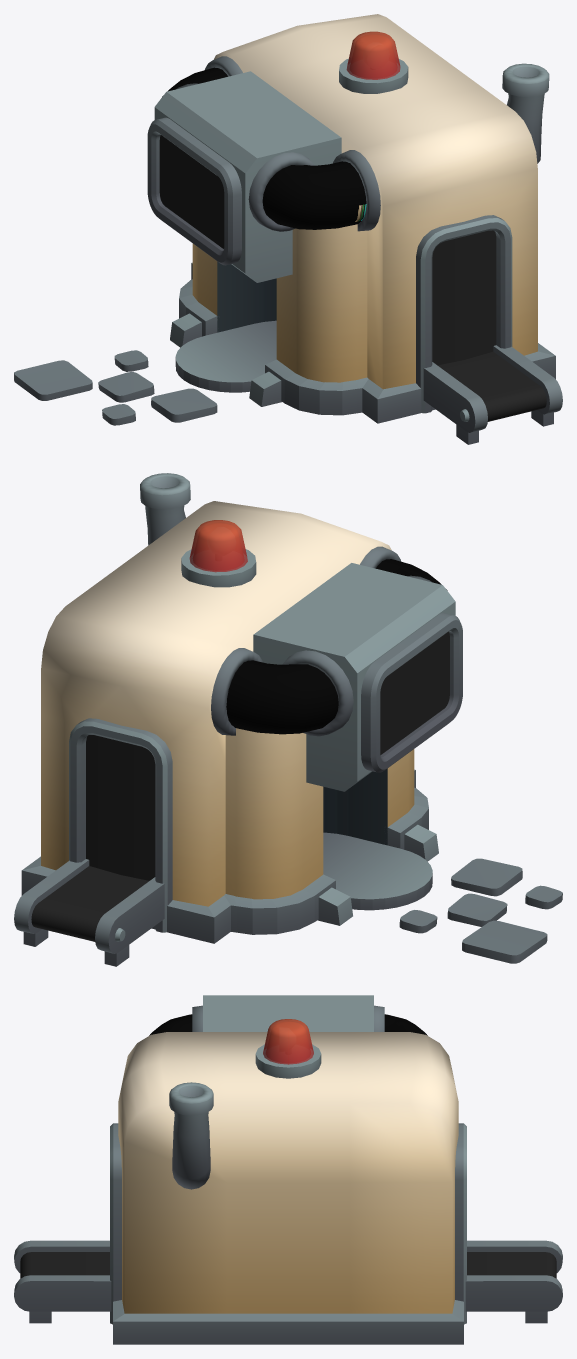
The model's file is crosshatcher.fbx.
3 renders of one model, top to bottom at view 1: azimuth 30°, elevation 25°; view 2: azimuth 150°, elevation 25°; view 3: azimuth 270°, elevation 25°, orthographic. The views are drawn at different scales.
Visible parts, largest first — view 1: Cube, Cube.001, Cube.007, m_crosshatcher.001, m_crosshatcher.002, Cube.002, BézierCircle, Cylinder.005, BézierCircle.001, m_crosshatcher.003, m_incubator.002, m_incubator.001; view 2: Cube, Cube.001, Cube.007, m_crosshatcher.001, m_crosshatcher.002, Cube.002, BézierCircle, Cylinder.005, BézierCircle.001, m_crosshatcher.003, m_incubator.002, m_incubator.001; view 3: Cube, m_crosshatcher.001, Cube.002, Cube.007, m_incubator.002, m_crosshatcher.003, BézierCircle, BézierCircle.001.
Boxes of the visible parts, x1,y1,x2,y2 form: Cube: (14,14,537,425); Cube.001: (192,224,367,382); Cube.007: (154,71,341,282); m_crosshatcher.001: (416,215,562,444); m_crosshatcher.002: (147,117,241,265); Cube.002: (179,262,555,423); BézierCircle: (162,67,366,229); Cylinder.005: (175,320,276,392); BézierCircle.001: (176,56,380,231); m_crosshatcher.003: (339,31,408,93); m_incubator.002: (502,63,549,163); m_incubator.001: (170,313,281,406); Cube: (41,501,562,963); Cube.001: (225,728,414,899); Cube.007: (253,563,455,791); m_crosshatcher.001: (14,718,172,966); m_crosshatcher.002: (361,613,462,772); Cube.002: (21,769,428,943); BézierCircle: (226,559,447,734); Cylinder.005: (323,832,432,910); BézierCircle.001: (211,546,432,736); m_crosshatcher.003: (181,520,256,587); m_incubator.002: (140,473,190,545); m_incubator.001: (317,824,438,925); Cube: (118,1032,458,1313); m_crosshatcher.001: (14,1123,562,1324); Cube.002: (113,1300,463,1344); Cube.007: (203,995,373,1031); m_incubator.002: (169,1082,213,1189); m_crosshatcher.003: (255,1019,321,1078); BézierCircle: (149,1014,427,1035); BézierCircle.001: (192,1005,384,1031).
Size of the model in its own units: 1.13 by 1.3 by 0.7294.
